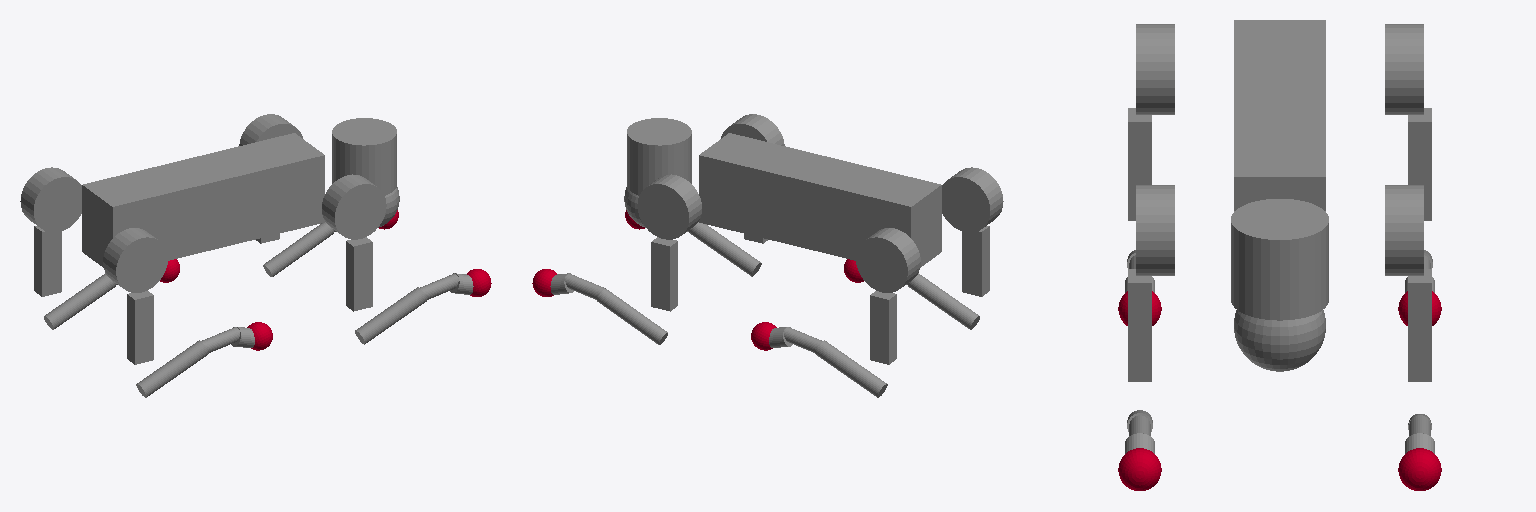
--- Facts derived from the render (not from the file) ---
Views: 3 orthographic renders of the robot side by side, from view 1: azimuth 30°, elevation 25°; view 2: azimuth 150°, elevation 25°; view 3: azimuth 270°, elevation 25°.
Robot: go2_description — 29 links, 28 joints (12 revolute, 16 fixed); root link base; default pose: all joints at 0 but 4 set to mid-range because 0 is outside their limits (FL_calf_joint = -1.78, FR_calf_joint = -1.78, RL_calf_joint = -1.78, RR_calf_joint = -1.78).
Links seen in each view (by area): view 1: base, Head_upper, RR_hip, FR_hip, RL_hip, RR_thigh, FR_thigh, RL_thigh, FR_calf, RR_calf, RL_calf, FL_calf (+1 smaller); view 2: base, Head_upper, RL_hip, FL_hip, RR_hip, RL_thigh, FL_thigh, RR_thigh, RL_calf, RR_calf, FR_calf, FL_calf (+2 smaller); view 3: base, Head_upper, Head_lower, FL_hip, FR_hip, RL_hip, RR_hip, FL_thigh, FR_thigh, RL_thigh, RR_thigh, FL_foot (+1 smaller).
Boxes of the visible links, x1=… form: base: x1=82, y1=133, x2=324, y2=267; Head_upper: x1=332, y1=118, x2=396, y2=195; RR_hip: x1=103, y1=228, x2=167, y2=292; FR_hip: x1=322, y1=174, x2=386, y2=239; RL_hip: x1=20, y1=167, x2=81, y2=232; RR_thigh: x1=127, y1=291, x2=153, y2=364; FR_thigh: x1=346, y1=237, x2=372, y2=311; RL_thigh: x1=34, y1=226, x2=61, y2=296; FR_calf: x1=355, y1=287, x2=426, y2=344; RR_calf: x1=136, y1=340, x2=208, y2=397; RL_calf: x1=44, y1=273, x2=115, y2=329; FL_calf: x1=263, y1=222, x2=333, y2=276; base: x1=699, y1=133, x2=941, y2=267; Head_upper: x1=627, y1=118, x2=691, y2=195; RL_hip: x1=856, y1=228, x2=920, y2=292; FL_hip: x1=637, y1=174, x2=701, y2=239; RR_hip: x1=942, y1=167, x2=1003, y2=232; RL_thigh: x1=870, y1=291, x2=896, y2=364; FL_thigh: x1=651, y1=237, x2=677, y2=311; RR_thigh: x1=962, y1=226, x2=989, y2=296; RL_calf: x1=815, y1=340, x2=887, y2=397; RR_calf: x1=908, y1=273, x2=979, y2=329; FR_calf: x1=689, y1=222, x2=761, y2=276; FL_calf: x1=597, y1=289, x2=667, y2=344; base: x1=1234, y1=20, x2=1325, y2=210; Head_upper: x1=1231, y1=199, x2=1328, y2=320; Head_lower: x1=1234, y1=310, x2=1325, y2=371; FL_hip: x1=1385, y1=185, x2=1423, y2=275; FR_hip: x1=1136, y1=185, x2=1174, y2=275; RL_hip: x1=1385, y1=24, x2=1423, y2=114; RR_hip: x1=1136, y1=24, x2=1174, y2=114; FL_thigh: x1=1408, y1=269, x2=1431, y2=381; FR_thigh: x1=1128, y1=269, x2=1151, y2=381; RL_thigh: x1=1408, y1=108, x2=1431, y2=220; RR_thigh: x1=1128, y1=108, x2=1151, y2=220; FL_foot: x1=1398, y1=448, x2=1441, y2=490.
Size in the robot's own frame: 0.6636 by 0.328 by 0.2851 metres.
Geometry: primitives only (box / cylinder / sphere), no mesh files.

robot.urdf — go2_description:
<?xml version="1.0" encoding="utf-8"?>
<!-- This URDF was automatically created by SolidWorks to URDF Exporter! Originally created by
Stephen Brawner ([email redacted]) 
     Commit Version: 1.6.0-4-g7f85cfe  Build Version: 1.6.7995.38578
     For more information, please see http://wiki.ros.org/sw_urdf_exporter -->
<robot
  name="go2_description">
  <material name="gray">
    <color rgba="0.4 0.4 0.4 1.0"/>
  </material>
  <material name="darkgray">
    <color rgba="0.1 0.1 0.1 1.0"/>
  </material>
  <material name="silver">
    <color rgba="0.6 0.6 0.6 1.0"/>
  </material>
  <material name="red">
    <color rgba="0.8 0.0 0.2 1.0"/>
  </material>
  <link
    name="base">
    <inertial>
      <origin
        xyz="0.021112 0 -0.005366"
        rpy="0 0 0" />
      <mass
        value="6.921" />
      <inertia
        ixx="0.02448"
        ixy="0.00012166"
        ixz="0.0014849"
        iyy="0.098077"
        iyz="-3.12E-05"
        izz="0.107" />
    </inertial>
    <visual>
      <origin rpy="0 0 0" xyz="0 0 0" />
      <geometry>
        <box size="0.3762 0.0935 0.114" />
      </geometry>
      <material name="silver"/>
    </visual>
    <collision>
      <origin rpy="0 0 0" xyz="0 0 0" />
      <geometry>
        <box size="0.3762 0.0935 0.114" />
      </geometry>
    </collision>
  </link>
  <link
    name="Head_upper">
    <inertial>
      <origin
        xyz="0 0 0"
        rpy="0 0 0" />
      <mass
        value="0.001" />
      <inertia
        ixx="9.6e-06"
        ixy="0"
        ixz="0"
        iyy="9.6e-06"
        iyz="0"
        izz="9.6e-06" />
    </inertial>
    <visual>
      <origin
        xyz="0 0 0"
        rpy="0 0 0" />
      <geometry>
        <cylinder radius="0.05" length="0.09" />
      </geometry>
      <material name="silver"/>
    </visual>
    <collision>
      <origin
        xyz="0 0 0"
        rpy="0 0 0" />
      <geometry>
        <cylinder radius="0.05" length="0.09" />
      </geometry>
    </collision>
  </link>
  <joint
    name="Head_upper_joint"
    type="fixed" dont_collapse="true">
    <origin
      xyz="0.285 0 0.01"
      rpy="0 0 0" />
    <parent
      link="base" />
    <child
      link="Head_upper" />
    <axis
      xyz="0 0 0" />
  </joint>
  <link
    name="Head_lower">
    <inertial>
      <origin
        xyz="0 0 0"
        rpy="0 0 0" />
      <mass
        value="0.001" />
      <inertia
        ixx="9.6e-06"
        ixy="0"
        ixz="0"
        iyy="9.6e-06"
        iyz="0"
        izz="9.6e-06" />
    </inertial>
    <visual>
      <origin
        xyz="0 0 0"
        rpy="0 0 0" />
      <geometry>
        <sphere radius="0.047" />
      </geometry>
      <material name="silver"/>
    </visual>
    <collision>
      <origin
        xyz="0 0 0"
        rpy="0 0 0" />
      <geometry>
        <sphere radius="0.047" />
      </geometry>
      <material name="silver"/>
    </collision>
  </link>
  <joint
    name="Head_lower_joint"
    type="fixed" dont_collapse="true">
    <origin
      xyz="0.008 0 -0.07"
      rpy="0 0 0" />
    <parent
      link="Head_upper" />
    <child
      link="Head_lower" />
    <axis
      xyz="0 0 0" />
  </joint>
  <link
    name="FL_hip">
    <inertial>
      <origin
        xyz="-0.0054 0.00194 -0.000105"
        rpy="0 0 0" />
      <mass
        value="0.678" />
      <inertia
        ixx="0.00048"
        ixy="-3.01E-06"
        ixz="1.11E-06"
        iyy="0.000884"
        iyz="-1.42E-06"
        izz="0.000596" />
    </inertial>
    <visual>
      <origin rpy="1.5707963267948966 0 0" xyz="0 0.08 0" />
      <geometry>
        <cylinder length="0.04" radius="0.046" />
      </geometry>
      <material name="silver"/>
    </visual>
    <collision>
      <origin rpy="1.5707963267948966 0 0" xyz="0 0.08 0" />
      <geometry>
        <cylinder length="0.04" radius="0.046" />
      </geometry>
    </collision>
  </link>
  <joint
    name="FL_hip_joint"
    type="revolute">
    <origin
      xyz="0.1934 0.0465 0"
      rpy="0 0 0" />
    <parent
      link="base" />
    <child
      link="FL_hip" />
    <axis
      xyz="1 0 0" />
    <limit
      lower="-1.0472"
      upper="1.0472"
      effort="23.7"
      velocity="30.1" />
  </joint>
  <link
    name="FL_thigh">
    <inertial>
      <origin
        xyz="-0.00374 -0.0223 -0.0327"
        rpy="0 0 0" />
      <mass
        value="1.152" />
      <inertia
        ixx="0.00584"
        ixy="8.72E-05"
        ixz="-0.000289"
        iyy="0.0058"
        iyz="0.000808"
        izz="0.00103" />
    </inertial>
    <visual>
      <origin rpy="0 1.5707963267948966 0" xyz="0 0 -0.1065" />
      <geometry>
        <box size="0.11 0.0245 0.034" />
      </geometry>
      <material name="silver"/>
    </visual>
    <collision>
      <origin rpy="0 1.5707963267948966 0" xyz="0 0 -0.1065" />
      <geometry>
        <box size="0.11 0.0245 0.034" />
      </geometry>
    </collision>
  </link>
  <joint
    name="FL_thigh_joint"
    type="revolute">
    <origin
      xyz="0 0.0955 0"
      rpy="0 0 0" />
    <parent
      link="FL_hip" />
    <child
      link="FL_thigh" />
    <axis
      xyz="0 1 0" />
    <limit
      lower="-1.5708"
      upper="3.4907"
      effort="23.7"
      velocity="30.1" />
  </joint>
  <link
    name="FL_calf">
    <inertial>
      <origin
        xyz="0.00548 -0.000975 -0.115"
        rpy="0 0 0" />
      <mass
        value="0.154" />
      <inertia
        ixx="0.00108"
        ixy="3.4E-07"
        ixz="1.72E-05"
        iyy="0.0011"
        iyz="8.28E-06"
        izz="3.29E-05" />
    </inertial>
    <visual>
      <origin rpy="0 -0.21 0" xyz="0.008 0 -0.06" />
      <geometry>
        <cylinder length="0.12" radius="0.012" />
      </geometry>
      <material name="silver"/>
    </visual>
    <collision>
      <origin rpy="0 -0.21 0" xyz="0.008 0 -0.06" />
      <geometry>
        <cylinder length="0.12" radius="0.012" />
      </geometry>
    </collision>
  </link>
  <joint
    name="FL_calf_joint"
    type="revolute">
    <origin
      xyz="0 0 -0.213"
      rpy="0 0 0" />
    <parent
      link="FL_thigh" />
    <child
      link="FL_calf" />
    <axis
      xyz="0 1 0" />
    <limit
      lower="-2.7227"
      upper="-0.83776"
      effort="45.43"
      velocity="15.70" />
  </joint>
  <link
    name="FL_calflower">
    <inertial>
      <origin xyz="0 0 0" rpy="0 0 0" />
      <mass value="0"/>
      <inertia ixx="0" ixy="0" ixz="0" iyy="0" iyz="0" izz="0"/>
    </inertial>
    <collision>
      <origin rpy="0 0 0" xyz="0 0 0" />
      <geometry>
        <cylinder length="0.065" radius="0.011" />
      </geometry>
    </collision>
    <visual>
      <origin rpy="0 0 0" xyz="0 0 0" />
      <geometry>
        <cylinder length="0.065" radius="0.011" />
      </geometry>
      <material name="silver"/>
    </visual>
  </link>
  <joint
    name="FL_calflower_joint"
    type="fixed">
    <origin
      xyz="0.020 0 -0.148"
      rpy="0 0.05 0" />
    <parent
      link="FL_calf" />
    <child
      link="FL_calflower" />
    <axis
      xyz="0 0 0" />
  </joint>
  <link
    name="FL_calflower1">
    <inertial>
      <origin xyz="0 0 0" rpy="0 0 0" />
      <mass value="0"/>
      <inertia ixx="0" ixy="0" ixz="0" iyy="0" iyz="0" izz="0"/>
    </inertial>
    <collision>
      <origin rpy="0 0 0" xyz="0 0 0" />
      <geometry>
        <cylinder length="0.03" radius="0.0155" />
      </geometry>
    </collision>
    <visual>
      <origin rpy="0 0 0" xyz="0 0 0" />
      <geometry>
        <cylinder length="0.03" radius="0.0155" />
      </geometry>
      <material name="silver"/>
    </visual>
  </link>
  <joint
    name="FL_calflower1_joint"
    type="fixed">
    <origin
      xyz="-0.01 0 -0.04"
      rpy="0 0.48 0" />
    <parent
      link="FL_calflower" />
    <child
      link="FL_calflower1" />
    <axis
      xyz="0 0 0" />
  </joint>
  <link
    name="FL_foot">
    <inertial>
      <origin
        xyz="0 0 0"
        rpy="0 0 0" />
      <mass
        value="0.04" />
      <inertia
        ixx="9.6e-06"
        ixy="0"
        ixz="0"
        iyy="9.6e-06"
        iyz="0"
        izz="9.6e-06" />
    </inertial>
    <visual>
      <origin rpy="0 0 0" xyz="-0.002 0 0" />
      <geometry>
        <sphere radius="0.022" />
      </geometry>
      <material name="red"/>
    </visual>
    <collision>
      <origin rpy="0 0 0" xyz="-0.002 0 0" />
      <geometry>
        <sphere radius="0.022" />
      </geometry>
    </collision>
  </link>
  <joint
    name="FL_foot_joint"
    type="fixed" dont_collapse="true">
    <origin
      xyz="0 0 -0.213"
      rpy="0 0 0" />
    <parent
      link="FL_calf" />
    <child
      link="FL_foot" />
    <axis
      xyz="0 0 0" />
  </joint>
  <link
    name="FR_hip">
    <inertial>
      <origin
        xyz="-0.0054 -0.00194 -0.000105"
        rpy="0 0 0" />
      <mass
        value="0.678" />
      <inertia
        ixx="0.00048"
        ixy="3.01E-06"
        ixz="1.11E-06"
        iyy="0.000884"
        iyz="1.42E-06"
        izz="0.000596" />
    </inertial>
    <visual>
      <origin rpy="1.5707963267948966 0 0" xyz="0 -0.08 0" />
      <geometry>
        <cylinder length="0.04" radius="0.046" />
      </geometry>
      <material name="silver"/>
    </visual>
    <collision>
      <origin rpy="1.5707963267948966 0 0" xyz="0 -0.08 0" />
      <geometry>
        <cylinder length="0.04" radius="0.046" />
      </geometry>
    </collision>
  </link>
  <joint
    name="FR_hip_joint"
    type="revolute">
    <origin
      xyz="0.1934 -0.0465 0"
      rpy="0 0 0" />
    <parent
      link="base" />
    <child
      link="FR_hip" />
    <axis
      xyz="1 0 0" />
    <limit
      lower="-1.0472"
      upper="1.0472"
      effort="23.7"
      velocity="30.1" />
  </joint>
  <link
    name="FR_thigh">
    <inertial>
      <origin
        xyz="-0.00374 0.0223 -0.0327"
        rpy="0 0 0" />
      <mass
        value="1.152" />
      <inertia
        ixx="0.00584"
        ixy="-8.72E-05"
        ixz="-0.000289"
        iyy="0.0058"
        iyz="-0.000808"
        izz="0.00103" />
    </inertial>
    <visual>
      <origin rpy="0 1.5707963267948966 0" xyz="0 0 -0.1065" />
      <geometry>
        <box size="0.11 0.0245 0.034" />
      </geometry>
      <material name="silver"/>
    </visual>
    <collision>
      <origin rpy="0 1.5707963267948966 0" xyz="0 0 -0.1065" />
      <geometry>
        <box size="0.11 0.0245 0.034" />
      </geometry>
    </collision>
  </link>
  <joint
    name="FR_thigh_joint"
    type="revolute">
    <origin
      xyz="0 -0.0955 0"
      rpy="0 0 0" />
    <parent
      link="FR_hip" />
    <child
      link="FR_thigh" />
    <axis
      xyz="0 1 0" />
    <limit
      lower="-1.5708"
      upper="3.4907"
      effort="23.7"
      velocity="30.1" />
  </joint>
  <link
    name="FR_calf">
    <inertial>
      <origin
        xyz="0.00548 0.000975 -0.115"
        rpy="0 0 0" />
      <mass
        value="0.154" />
      <inertia
        ixx="0.00108"
        ixy="-3.4E-07"
        ixz="1.72E-05"
        iyy="0.0011"
        iyz="-8.28E-06"
        izz="3.29E-05" />
    </inertial>
    <visual>
      <origin rpy="0 -0.2 0" xyz="0.01 0 -0.06" />
      <geometry>
        <cylinder length="0.12" radius="0.013" />
      </geometry>
      <material name="silver"/>
    </visual>
    <collision>
      <origin rpy="0 -0.2 0" xyz="0.01 0 -0.06" />
      <geometry>
        <cylinder length="0.12" radius="0.013" />
      </geometry>
    </collision>
  </link>
  <joint
    name="FR_calf_joint"
    type="revolute">
    <origin
      xyz="0 0 -0.213"
      rpy="0 0 0" />
    <parent
      link="FR_thigh" />
    <child
      link="FR_calf" />
    <axis
      xyz="0 1 0" />
    <limit
      lower="-2.7227"
      upper="-0.83776"
      effort="45.43"
      velocity="15.70" />
  </joint>
  <link
    name="FR_calflower">
    <inertial>
      <origin xyz="0 0 0" rpy="0 0 0" />
      <mass value="0"/>
      <inertia ixx="0" ixy="0" ixz="0" iyy="0" iyz="0" izz="0"/>
    </inertial>
    <collision>
      <origin rpy="0 0 0" xyz="0 0 0" />
      <geometry>
        <cylinder length="0.065" radius="0.011" />
      </geometry>
    </collision>
    <visual>
      <origin rpy="0 0 0" xyz="0 0 0" />
      <geometry>
        <cylinder length="0.065" radius="0.011" />
      </geometry>
      <material name="silver"/>
    </visual>
  </link>
  <joint
    name="FR_calflower_joint"
    type="fixed">
    <origin
      xyz="0.020 0 -0.148"
      rpy="0 0.05 0" />
    <parent
      link="FR_calf" />
    <child
      link="FR_calflower" />
    <axis
      xyz="0 0 0" />
  </joint>
  <link
    name="FR_calflower1">
    <inertial>
      <origin xyz="0 0 0" rpy="0 0 0" />
      <mass value="0"/>
      <inertia ixx="0" ixy="0" ixz="0" iyy="0" iyz="0" izz="0"/>
    </inertial>
    <collision>
      <origin rpy="0 0 0" xyz="0 0 0" />
      <geometry>
        <cylinder length="0.03" radius="0.0155" />
      </geometry>
    </collision>
    <visual>
      <origin rpy="0 0 0" xyz="0 0 0" />
      <geometry>
        <cylinder length="0.03" radius="0.0155" />
      </geometry>
      <material name="silver"/>
    </visual>
  </link>
  <joint
    name="FR_calflower1_joint"
    type="fixed">
    <origin
      xyz="-0.01 0 -0.04"
      rpy="0 0.48 0" />
    <parent
      link="FR_calflower" />
    <child
      link="FR_calflower1" />
    <axis
      xyz="0 0 0" />
  </joint>
  <link
    name="FR_foot">
    <inertial>
      <origin
        xyz="0 0 0"
        rpy="0 0 0" />
      <mass
        value="0.04" />
      <inertia
        ixx="9.6e-06"
        ixy="0"
        ixz="0"
        iyy="9.6e-06"
        iyz="0"
        izz="9.6e-06" />
    </inertial>
    <visual>
      <origin rpy="0 0 0" xyz="-0.002 0 0" />
      <geometry>
        <sphere radius="0.022" />
      </geometry>
      <material name="red"/>
    </visual>
    <collision>
      <origin rpy="0 0 0" xyz="-0.002 0 0" />
      <geometry>
        <sphere radius="0.022" />
      </geometry>
    </collision>
  </link>
  <joint
    name="FR_foot_joint"
    type="fixed" dont_collapse="true">
    <origin
      xyz="0 0 -0.213"
      rpy="0 0 0" />
    <parent
      link="FR_calf" />
    <child
      link="FR_foot" />
    <axis
      xyz="0 0 0" />
  </joint>
  <link
    name="RL_hip">
    <inertial>
      <origin
        xyz="0.0054 0.00194 -0.000105"
        rpy="0 0 0" />
      <mass
        value="0.678" />
      <inertia
        ixx="0.00048"
        ixy="3.01E-06"
        ixz="-1.11E-06"
        iyy="0.000884"
        iyz="-1.42E-06"
        izz="0.000596" />
    </inertial>
    <visual>
      <origin rpy="1.5707963267948966 0 0" xyz="0 0.08 0" />
      <geometry>
        <cylinder length="0.04" radius="0.046" />
      </geometry>
      <material name="silver"/>
    </visual>
    <collision>
      <origin rpy="1.5707963267948966 0 0" xyz="0 0.08 0" />
      <geometry>
        <cylinder length="0.04" radius="0.046" />
      </geometry>
    </collision>
  </link>
  <joint
    name="RL_hip_joint"
    type="revolute">
    <origin
      xyz="-0.1934 0.0465 0"
      rpy="0 0 0" />
    <parent
      link="base" />
    <child
      link="RL_hip" />
    <axis
      xyz="1 0 0" />
    <limit
      lower="-1.0472"
      upper="1.0472"
      effort="23.7"
      velocity="30.1" />
  </joint>
  <link
    name="RL_thigh">
    <inertial>
      <origin
        xyz="-0.00374 -0.0223 -0.0327"
        rpy="0 0 0" />
      <mass
        value="1.152" />
      <inertia
        ixx="0.00584"
        ixy="8.72E-05"
        ixz="-0.000289"
        iyy="0.0058"
        iyz="0.000808"
        izz="0.00103" />
    </inertial>
    <visual>
      <origin rpy="0 1.5707963267948966 0" xyz="0 0 -0.1065" />
      <geometry>
        <box size="0.11 0.0245 0.034" />
      </geometry>
      <material name="silver"/>
    </visual>
    <collision>
      <origin rpy="0 1.5707963267948966 0" xyz="0 0 -0.1065" />
      <geometry>
        <box size="0.11 0.0245 0.034" />
      </geometry>
    </collision>
  </link>
  <joint
    name="RL_thigh_joint"
    type="revolute">
    <origin
      xyz="0 0.0955 0"
      rpy="0 0 0" />
    <parent
      link="RL_hip" />
    <child
      link="RL_thigh" />
    <axis
      xyz="0 1 0" />
    <limit
      lower="-0.5236"
      upper="4.5379"
      effort="23.7"
      velocity="30.1" />
  </joint>
  <link
    name="RL_calf">
    <inertial>
      <origin
        xyz="0.00548 -0.000975 -0.115"
        rpy="0 0 0" />
      <mass
        value="0.154" />
      <inertia
        ixx="0.00108"
        ixy="3.4E-07"
        ixz="1.72E-05"
        iyy="0.0011"
        iyz="8.28E-06"
        izz="3.29E-05" />
    </inertial>
    <visual>
      <origin rpy="0 -0.2 0" xyz="0.01 0 -0.06" />
      <geometry>
        <cylinder length="0.12" radius="0.013" />
      </geometry>
      <material name="silver"/>
    </visual>
    <collision>
      <origin rpy="0 -0.2 0" xyz="0.01 0 -0.06" />
      <geometry>
        <cylinder length="0.12" radius="0.013" />
      </geometry>
    </collision>
  </link>
  <joint
    name="RL_calf_joint"
    type="revolute">
    <origin
      xyz="0 0 -0.213"
      rpy="0 0 0" />
    <parent
      link="RL_thigh" />
    <child
      link="RL_calf" />
    <axis
      xyz="0 1 0" />
    <limit
      lower="-2.7227"
      upper="-0.83776"
      effort="45.43"
      velocity="15.70" />
  </joint>
  <link
    name="RL_calflower">
    <inertial>
      <origin xyz="0 0 0" rpy="0 0 0" />
      <mass value="0"/>
      <inertia ixx="0" ixy="0" ixz="0" iyy="0" iyz="0" izz="0"/>
    </inertial>
    <collision>
      <origin rpy="0 0 0" xyz="0 0 0" />
      <geometry>
        <cylinder length="0.065" radius="0.011" />
      </geometry>
    </collision>
    <visual>
      <origin rpy="0 0 0" xyz="0 0 0" />
      <geometry>
        <cylinder length="0.065" radius="0.011" />
      </geometry>
      <material name="silver"/>
    </visual>
  </link>
  <joint
    name="RL_calflower_joint"
    type="fixed">
    <origin
      xyz="0.020 0 -0.148"
      rpy="0 0.05 0" />
    <parent
      link="RL_calf" />
    <child
      link="RL_calflower" />
    <axis
      xyz="0 0 0" />
  </joint>
  <link
    name="RL_calflower1">
    <inertial>
      <origin xyz="0 0 0" rpy="0 0 0" />
      <mass value="0"/>
      <inertia ixx="0" ixy="0" ixz="0" iyy="0" iyz="0" izz="0"/>
    </inertial>
    <collision>
      <origin rpy="0 0 0" xyz="0 0 0" />
      <geometry>
        <cylinder length="0.03" radius="0.0155" />
      </geometry>
    </collision>
    <visual>
      <origin rpy="0 0 0" xyz="0 0 0" />
      <geometry>
        <cylinder length="0.03" radius="0.0155" />
      </geometry>
      <material name="silver"/>
    </visual>
  </link>
  <joint
    name="RL_calflower1_joint"
    type="fixed">
    <origin
      xyz="-0.01 0 -0.04"
      rpy="0 0.48 0" />
    <parent
      link="RL_calflower" />
    <child
      link="RL_calflower1" />
    <axis
      xyz="0 0 0" />
  </joint>
  <link
    name="RL_foot">
    <inertial>
      <origin
        xyz="0 0 0"
        rpy="0 0 0" />
      <mass
        value="0.04" />
      <inertia
        ixx="9.6e-06"
        ixy="0"
        ixz="0"
        iyy="9.6e-06"
        iyz="0"
        izz="9.6e-06" />
    </inertial>
    <visual>
      <origin rpy="0 0 0" xyz="-0.002 0 0" />
      <geometry>
        <sphere radius="0.022" />
      </geometry>
      <material name="red"/>
    </visual>
    <collision>
      <origin rpy="0 0 0" xyz="-0.002 0 0" />
      <geometry>
        <sphere radius="0.022" />
      </geometry>
    </collision>
  </link>
  <joint
    name="RL_foot_joint"
    type="fixed" dont_collapse="true">
    <origin
      xyz="0 0 -0.213"
      rpy="0 0 0" />
    <parent
      link="RL_calf" />
    <child
      link="RL_foot" />
    <axis
      xyz="0 0 0" />
  </joint>
  <link
    name="RR_hip">
    <inertial>
      <origin
        xyz="0.0054 -0.00194 -0.000105"
        rpy="0 0 0" />
      <mass
        value="0.678" />
      <inertia
        ixx="0.00048"
        ixy="-3.01E-06"
        ixz="-1.11E-06"
        iyy="0.000884"
        iyz="1.42E-06"
        izz="0.000596" />
    </inertial>
    <visual>
      <origin rpy="1.5707963267948966 0 0" xyz="0 -0.08 0" />
      <geometry>
        <cylinder length="0.04" radius="0.046" />
      </geometry>
      <material name="silver"/>
    </visual>
    <collision>
      <origin rpy="1.5707963267948966 0 0" xyz="0 -0.08 0" />
      <geometry>
        <cylinder length="0.04" radius="0.046" />
      </geometry>
    </collision>
  </link>
  <joint
    name="RR_hip_joint"
    type="revolute">
    <origin
      xyz="-0.1934 -0.0465 0"
      rpy="0 0 0" />
    <parent
      link="base" />
    <child
      link="RR_hip" />
    <axis
      xyz="1 0 0" />
    <limit
      lower="-1.0472"
      upper="1.0472"
      effort="23.7"
      velocity="30.1" />
  </joint>
  <link
    name="RR_thigh">
    <inertial>
      <origin
        xyz="-0.00374 0.0223 -0.0327"
        rpy="0 0 0" />
      <mass
        value="1.152" />
      <inertia
        ixx="0.00584"
        ixy="-8.72E-05"
        ixz="-0.000289"
        iyy="0.0058"
        iyz="-0.000808"
        izz="0.00103" />
    </inertial>
    <visual>
      <origin rpy="0 1.5707963267948966 0" xyz="0 0 -0.1065" />
      <geometry>
        <box size="0.11 0.0245 0.034" />
      </geometry>
      <material name="silver"/>
    </visual>
    <collision>
      <origin rpy="0 1.5707963267948966 0" xyz="0 0 -0.1065" />
      <geometry>
        <box size="0.11 0.0245 0.034" />
      </geometry>
    </collision>
  </link>
  <joint
    name="RR_thigh_joint"
    type="revolute">
    <origin
      xyz="0 -0.0955 0"
      rpy="0 0 0" />
    <parent
      link="RR_hip" />
    <child
      link="RR_thigh" />
    <axis
      xyz="0 1 0" />
    <limit
      lower="-0.5236"
      upper="4.5379"
      effort="23.7"
      velocity="30.1" />
  </joint>
  <link
    name="RR_calf">
    <inertial>
      <origin
        xyz="0.00548 0.000975 -0.115"
        rpy="0 0 0" />
      <mass
        value="0.154" />
      <inertia
        ixx="0.00108"
        ixy="-3.4E-07"
        ixz="1.72E-05"
        iyy="0.0011"
        iyz="-8.28E-06"
        izz="3.29E-05" />
    </inertial>
    <visual>
      <origin rpy="0 -0.2 0" xyz="0.01 0 -0.06" />
      <geometry>
        <cylinder length="0.12" radius="0.013" />
      </geometry>
      <material name="silver"/>
    </visual>
    <collision>
      <origin rpy="0 -0.2 0" xyz="0.01 0 -0.06" />
      <geometry>
        <cylinder length="0.12" radius="0.013" />
      </geometry>
    </collision>
  </link>
  <joint
    name="RR_calf_joint"
    type="revolute">
    <origin
      xyz="0 0 -0.213"
      rpy="0 0 0" />
    <parent
      link="RR_thigh" />
    <child
      link="RR_calf" />
    <axis
      xyz="0 1 0" />
    <limit
      lower="-2.7227"
      upper="-0.83776"
      effort="45.43"
      velocity="15.70" />
  </joint>
  <link
    name="RR_calflower">
    <inertial>
      <origin xyz="0 0 0" rpy="0 0 0" />
      <mass value="0"/>
      <inertia ixx="0" ixy="0" ixz="0" iyy="0" iyz="0" izz="0"/>
    </inertial>
    <collision>
      <origin rpy="0 0 0" xyz="0 0 0" />
      <geometry>
        <cylinder length="0.065" radius="0.011" />
      </geometry>
    </collision>
    <visual>
      <origin rpy="0 0 0" xyz="0 0 0" />
      <geometry>
        <cylinder length="0.065" radius="0.011" />
      </geometry>
      <material name="silver"/>
    </visual>
  </link>
  <joint
    name="RR_calflower_joint"
    type="fixed">
    <origin
      xyz="0.020 0 -0.148"
      rpy="0 0.05 0" />
    <parent
      link="RR_calf" />
    <child
      link="RR_calflower" />
    <axis
      xyz="0 0 0" />
  </joint>
  <link
    name="RR_calflower1">
    <inertial>
      <origin xyz="0 0 0" rpy="0 0 0" />
      <mass value="0"/>
      <inertia ixx="0" ixy="0" ixz="0" iyy="0" iyz="0" izz="0"/>
    </inertial>
    <collision>
      <origin rpy="0 0 0" xyz="0 0 0" />
      <geometry>
        <cylinder length="0.03" radius="0.0155" />
      </geometry>
    </collision>
    <visual>
      <origin rpy="0 0 0" xyz="0 0 0" />
      <geometry>
        <cylinder length="0.03" radius="0.0155" />
      </geometry>
      <material name="silver"/>
    </visual>
  </link>
  <joint
    name="RR_calflower1_joint"
    type="fixed">
    <origin
      xyz="-0.01 0 -0.04"
      rpy="0 0.48 0" />
    <parent
      link="RR_calflower" />
    <child
      link="RR_calflower1" />
    <axis
      xyz="0 0 0" />
  </joint>
  <link
    name="RR_foot">
    <inertial>
      <origin
        xyz="0 0 0"
        rpy="0 0 0" />
      <mass
        value="0.04" />
      <inertia
        ixx="9.6e-06"
        ixy="0"
        ixz="0"
        iyy="9.6e-06"
        iyz="0"
        izz="9.6e-06" />
    </inertial>
    <visual>
      <origin rpy="0 0 0" xyz="-0.002 0 0" />
      <geometry>
        <sphere radius="0.022" />
      </geometry>
      <material name="red"/>
    </visual>
    <collision>
      <origin rpy="0 0 0" xyz="-0.002 0 0" />
      <geometry>
        <sphere radius="0.022" />
      </geometry>
    </collision>
  </link>
  <joint
    name="RR_foot_joint"
    type="fixed" dont_collapse="true">
    <origin
      xyz="0 0 -0.213"
      rpy="0 0 0" />
    <parent
      link="RR_calf" />
    <child
      link="RR_foot" />
    <axis
      xyz="0 0 0" />
  </joint>
  <link
    name="imu">
    <inertial>
      <origin
        xyz="0 0 0"
        rpy="0 0 0" />
      <mass
        value="0" />
      <inertia
        ixx="0"
        ixy="0"
        ixz="0"
        iyy="0"
        iyz="0"
        izz="0" />
    </inertial>
  </link>
  <joint
    name="imu_joint"
    type="fixed">
    <origin
      xyz="-0.02557 0 0.04232"
      rpy="0 0 0" />
    <parent
      link="base" />
    <child
      link="imu" />
    <axis
      xyz="0 0 0" />
  </joint>
  <link
    name="radar">
    <inertial>
      <origin
        xyz="0 0 0"
        rpy="0 0 0" />
      <mass
        value="0" />
      <inertia
        ixx="0"
        ixy="0"
        ixz="0"
        iyy="0"
        iyz="0"
        izz="0" />
    </inertial>
  </link>
  <joint
    name="radar_joint"
    type="fixed">
    <origin
      xyz="0.28945 0 -0.046825"
      rpy="0 2.8782 0" />
    <parent
      link="base" />
    <child
      link="radar" />
    <axis
      xyz="0 0 0" />
  </joint>
</robot>
